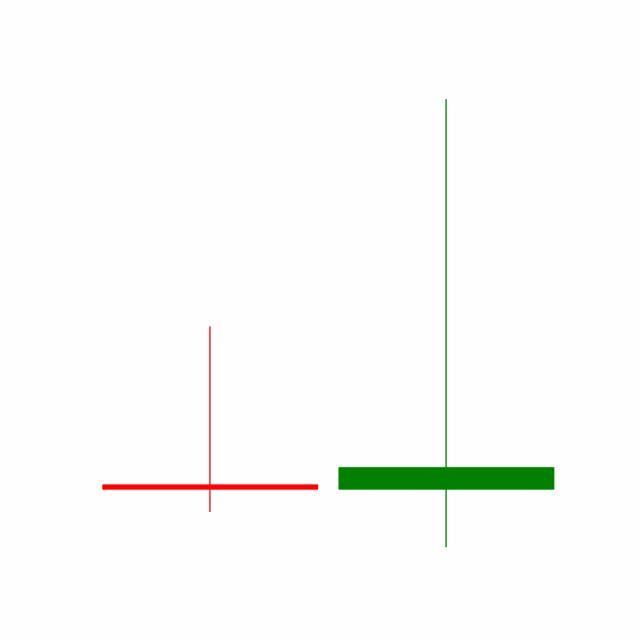Gravestone Doji: (328, 95, 566, 553)
